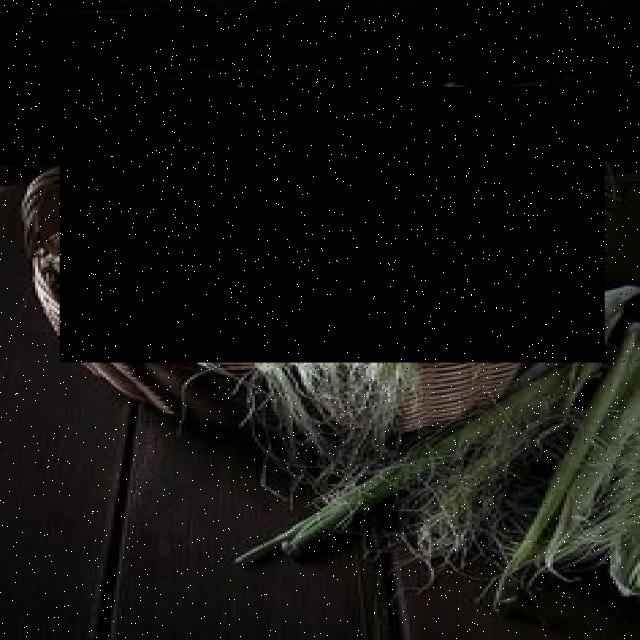Corn: (60, 87, 605, 363)
